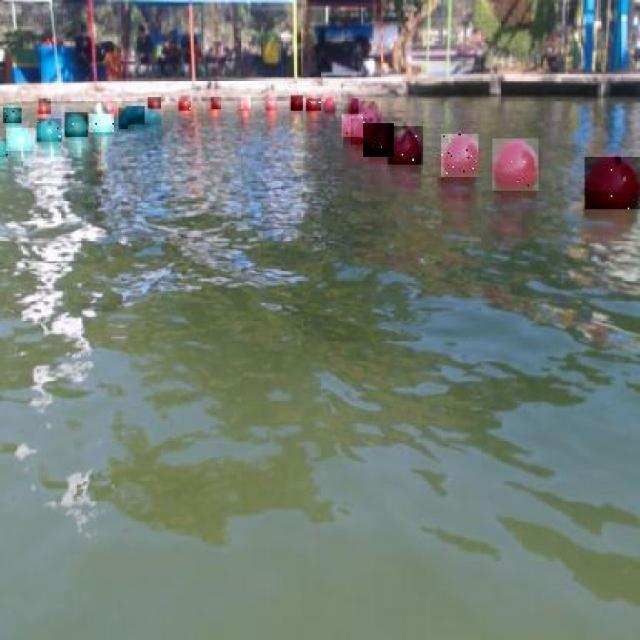green_ball: (64, 112, 90, 135), (8, 126, 32, 150), (37, 119, 62, 142), (92, 114, 115, 133), (126, 105, 145, 125), (117, 109, 134, 129), (143, 107, 161, 124), (4, 104, 20, 122), (0, 135, 7, 156)
red_ball: (584, 155, 640, 207), (492, 139, 538, 191), (441, 134, 478, 176), (388, 126, 422, 164), (363, 122, 394, 155), (342, 114, 362, 137), (362, 100, 378, 122), (358, 99, 376, 117), (346, 98, 361, 119), (103, 100, 119, 116), (177, 95, 192, 112), (238, 96, 251, 110), (306, 99, 321, 111), (38, 98, 49, 114), (291, 96, 303, 110), (148, 97, 160, 109), (211, 96, 222, 109), (325, 98, 336, 111), (266, 97, 276, 110)
